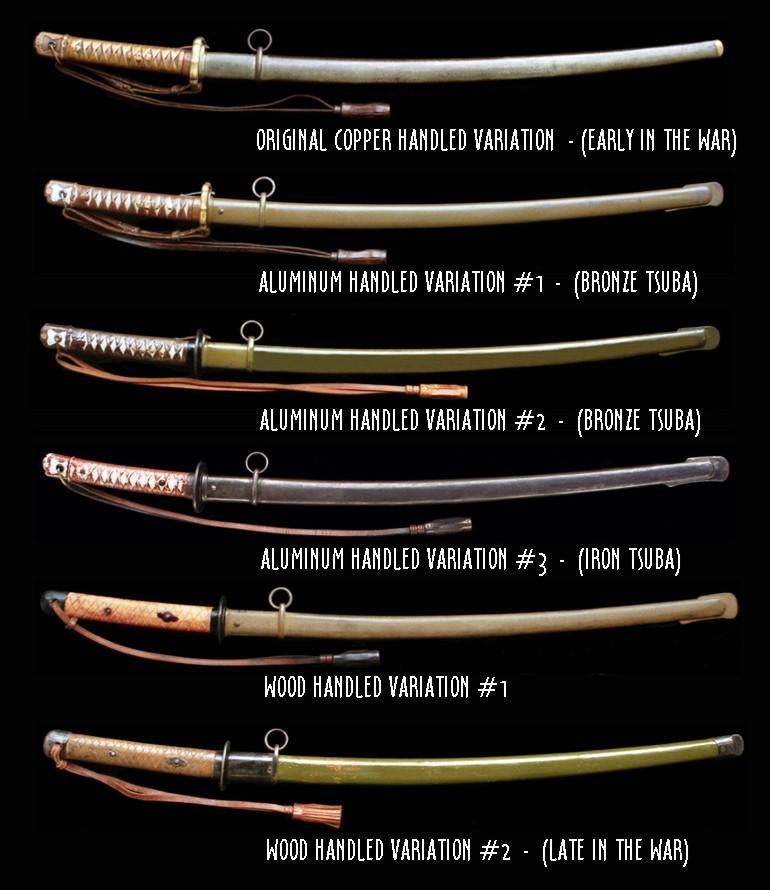espada: (8, 292, 752, 408), (27, 11, 748, 116), (45, 152, 738, 259), (38, 432, 742, 532), (23, 574, 770, 663), (40, 718, 749, 788)
